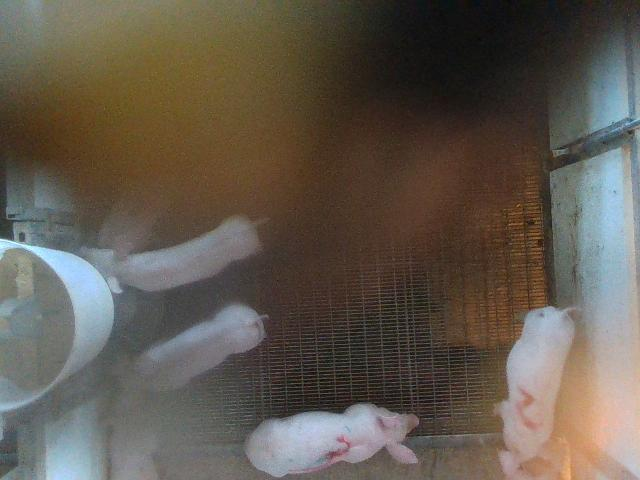pig-2: (495, 306, 575, 478)
pig-3: (245, 404, 419, 477)
